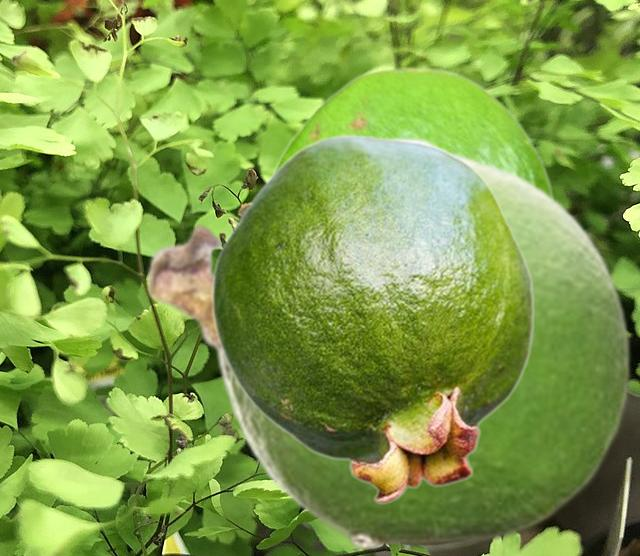guava: (144, 134, 634, 549), (210, 134, 534, 504), (267, 65, 557, 196)
